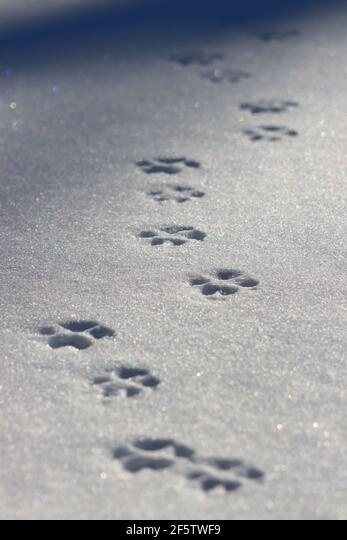fox: (82, 419, 285, 513), (181, 258, 281, 314), (32, 311, 117, 365)
